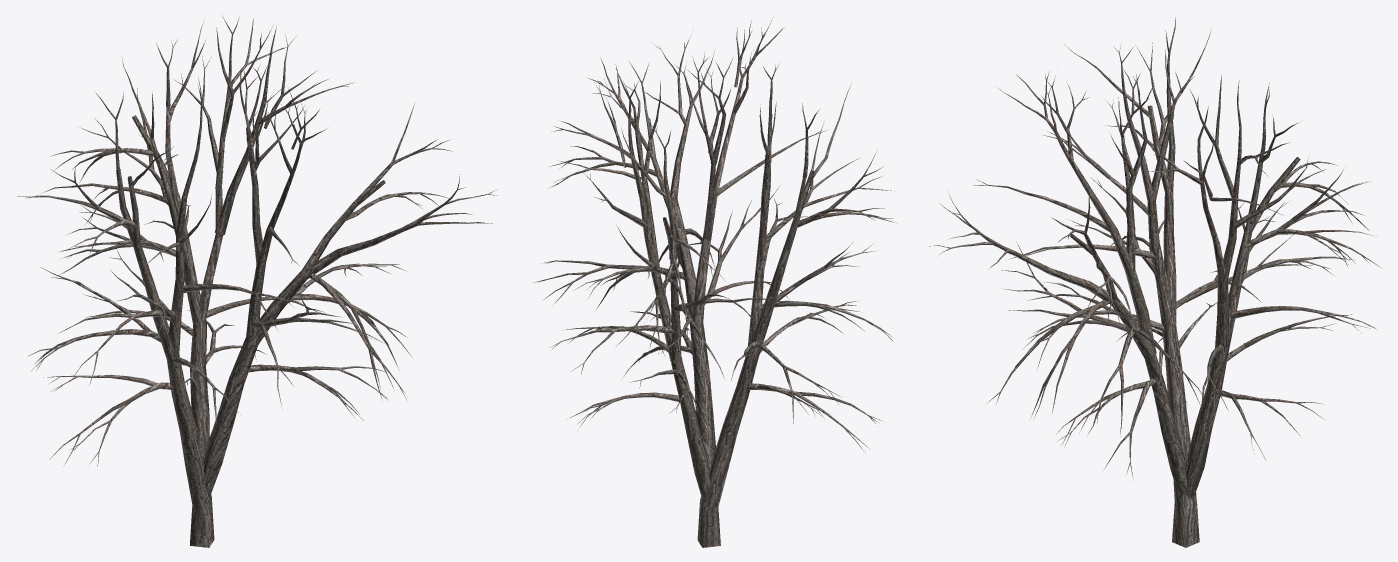
The model's file is Tree1.glb.
3 renders of one model, left to right at view 1: azimuth 30°, elevation 25°; view 2: azimuth 150°, elevation 25°; view 3: azimuth 270°, elevation 25°, orthographic. The views are drawn at different scales.
Visible parts, largest first — view 1: TreeLOD0; view 2: TreeLOD0; view 3: TreeLOD0.
Boxes of the visible parts, box(x1,y1,x2,y2) form: TreeLOD0: box(17, 16, 497, 547); TreeLOD0: box(534, 20, 894, 547); TreeLOD0: box(929, 17, 1380, 547).
Size of the model in its own units: 17.07 by 21.05 by 17.74.
Materials: 1 (1 with a texture image).
